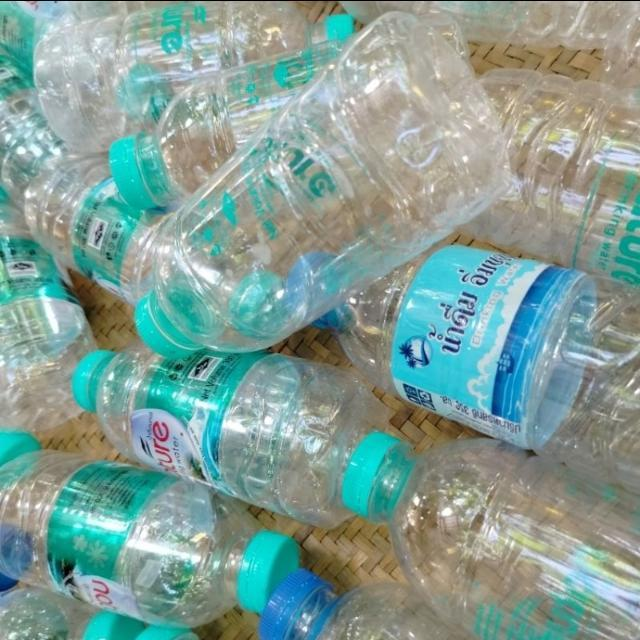PET Bottle: (0, 0, 640, 640), (18, 34, 566, 314), (359, 229, 640, 489), (70, 331, 418, 527), (0, 420, 282, 624)
